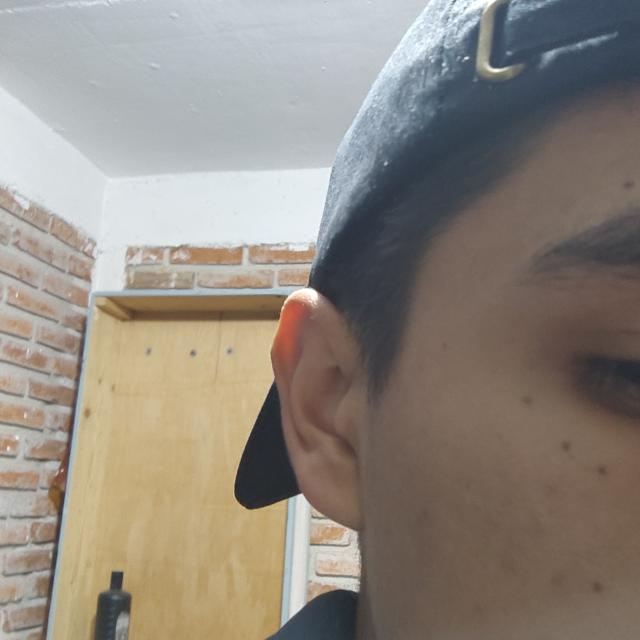ear: (271, 288, 369, 531)
